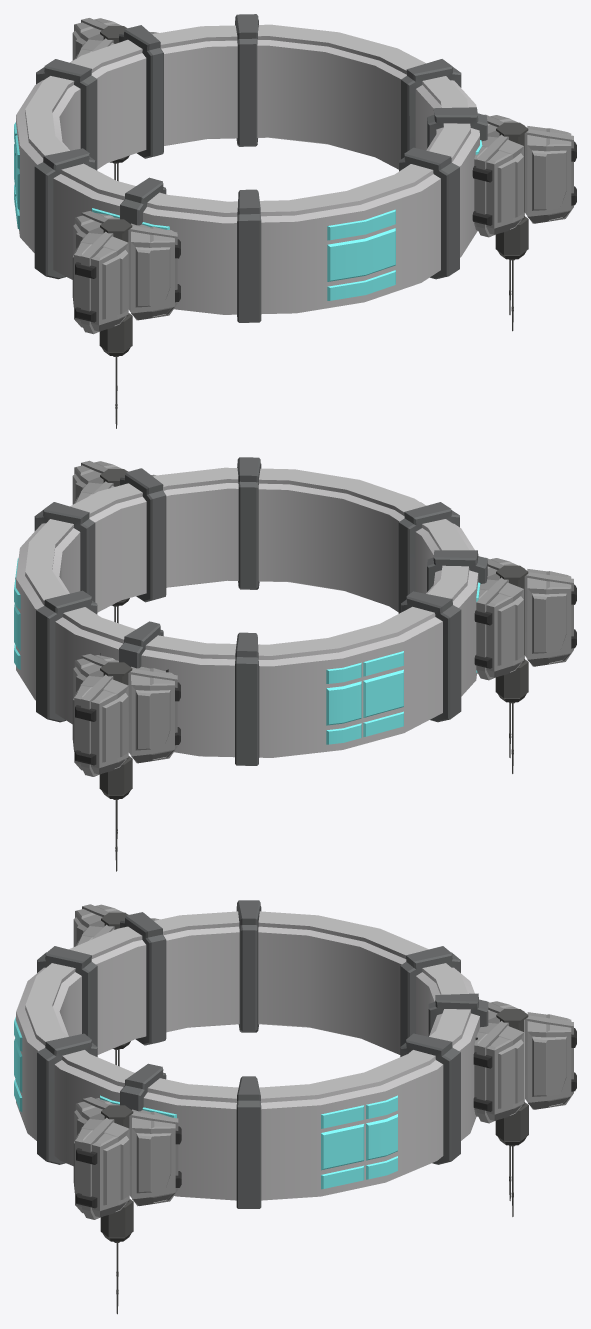
The model's file is RingGate_01.fbx.
The picture shows the model from 3 angles, top to bottom: view 1: azimuth 30°, elevation 25°; view 2: azimuth 150°, elevation 25°; view 3: azimuth 270°, elevation 25°; orthographic projection.
Parts seen in each view (by area): view 1: RingGate_01; view 2: RingGate_01; view 3: RingGate_01.
Part boxes in pixels (bbox=[...]): RingGate_01: bbox=[14, 14, 576, 428]; RingGate_01: bbox=[14, 457, 576, 871]; RingGate_01: bbox=[14, 900, 576, 1314].
Size of the model in its own units: 68.97 by 29.05 by 67.33.
